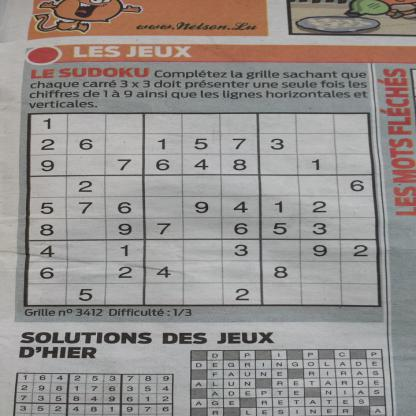sudoku: (18, 110, 386, 309)
